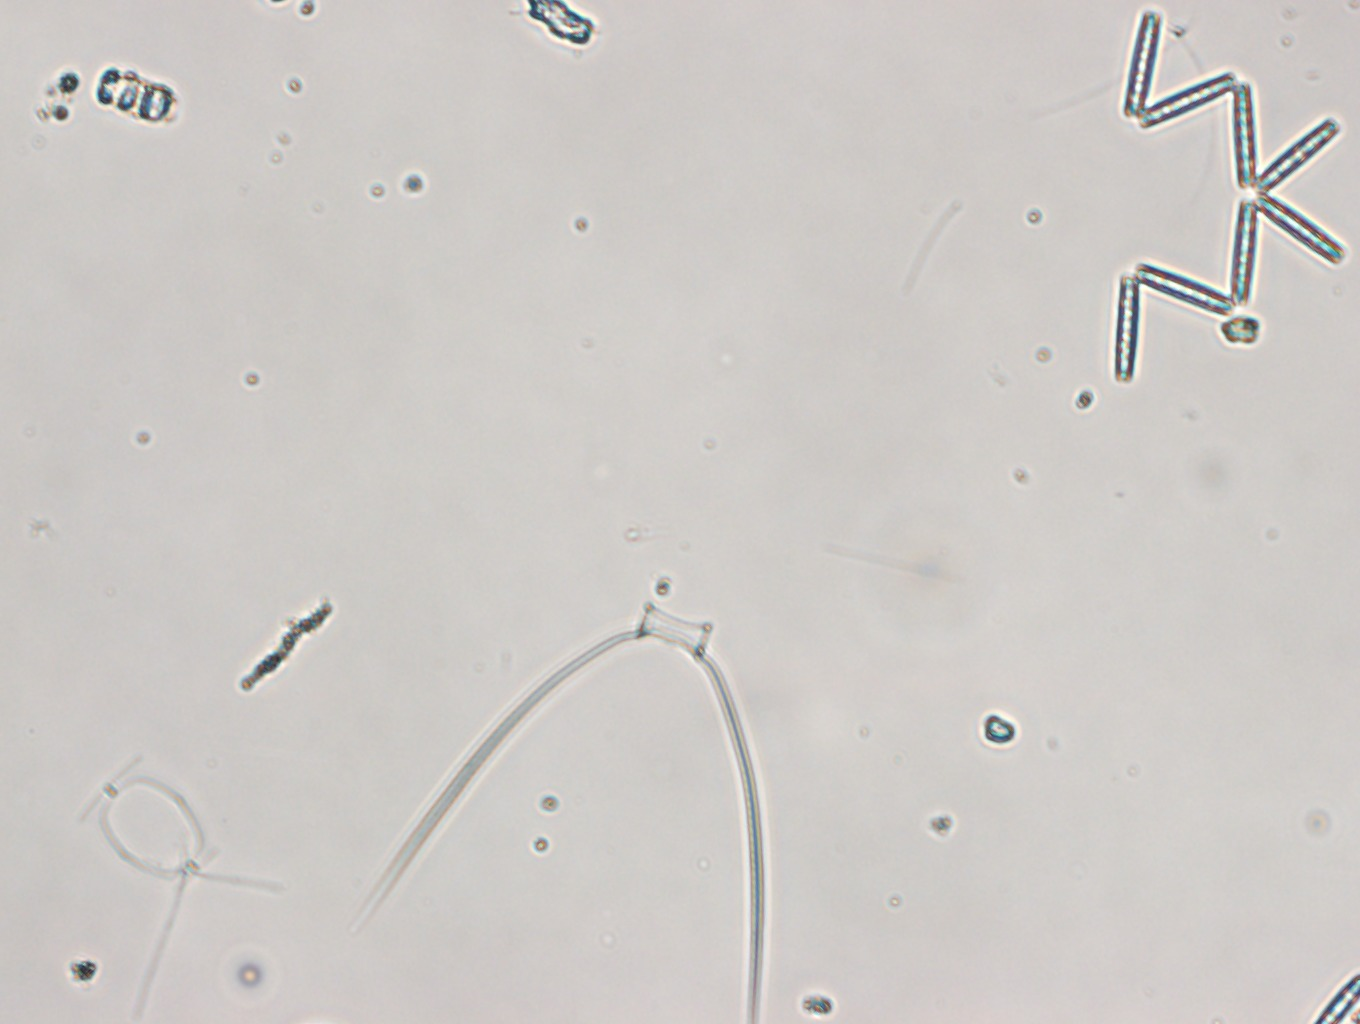chaetoceros: (355, 599, 765, 1024)
thalassionema nitzschioides: (1113, 8, 1348, 384)
